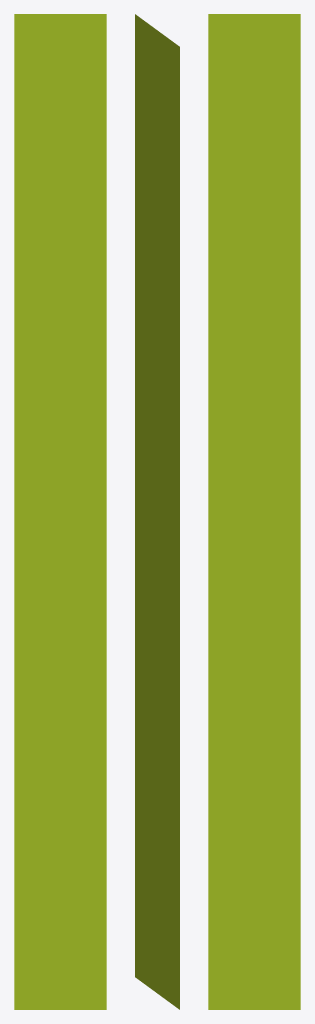
The model's file is Bed_chain.fbx.
3 views of the same model, side by side, from view 1: azimuth 90°, elevation 25°; view 2: azimuth 210°, elevation 25°; view 3: azimuth 270°, elevation 25° (orthographic). The views are drawn at different scales.
Parts seen in each view (by area): view 1: Object031; view 2: Object031; view 3: Object031.
Part boxes in pixels (x1=…): Object031: x1=14, y1=14, x2=106, y2=1009; Object031: x1=135, y1=14, x2=179, y2=1009; Object031: x1=208, y1=14, x2=300, y2=1009.
Size of the model in its own units: 5.05e-08 by 1.07 by 0.0898.
